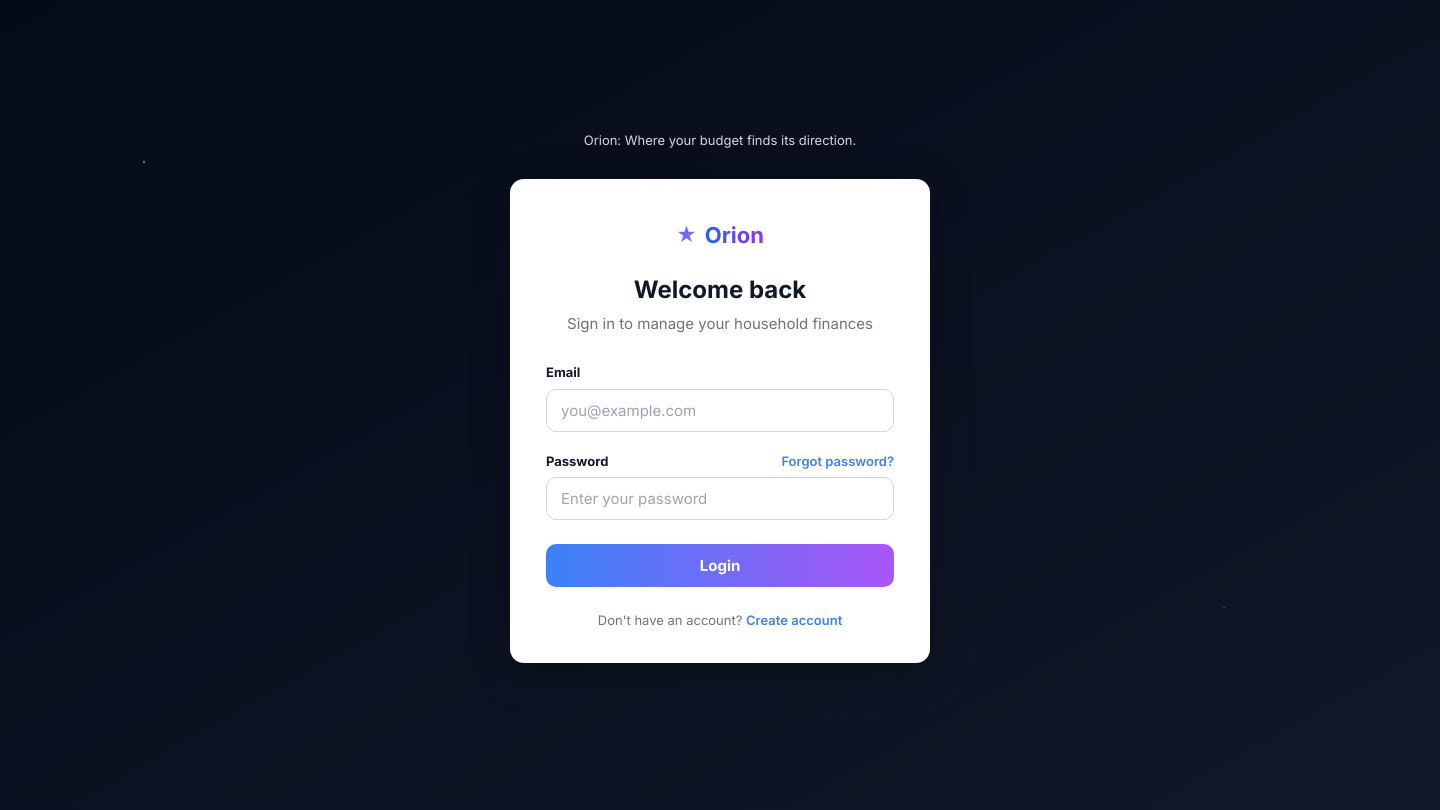
Login page › disables the submit button while the request is in flight
In the field labelled "Email": (720, 410) [546, 389, 894, 432], type "test@example.com"
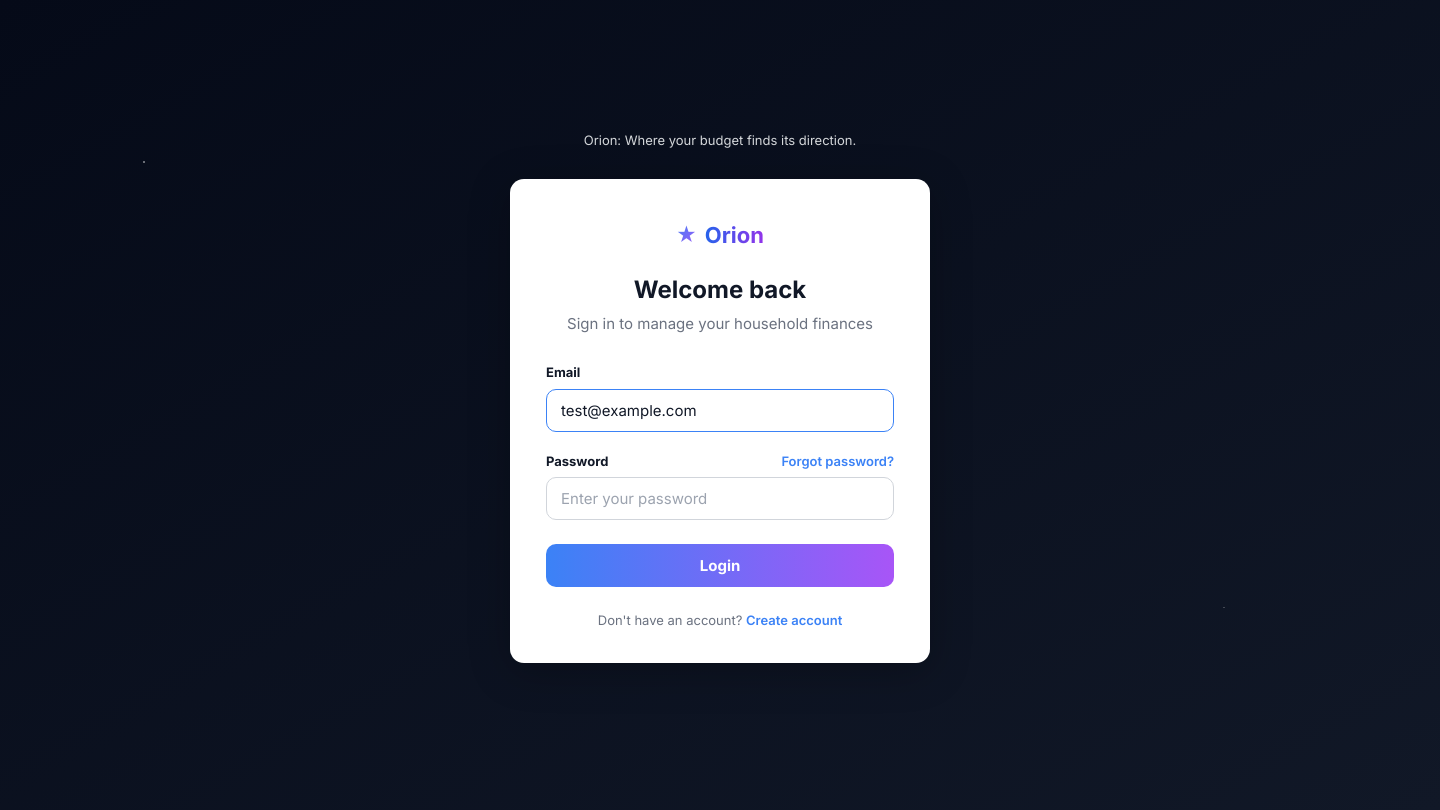
In the password field labelled "Password": (720, 499) [546, 477, 894, 520], type "secret123"
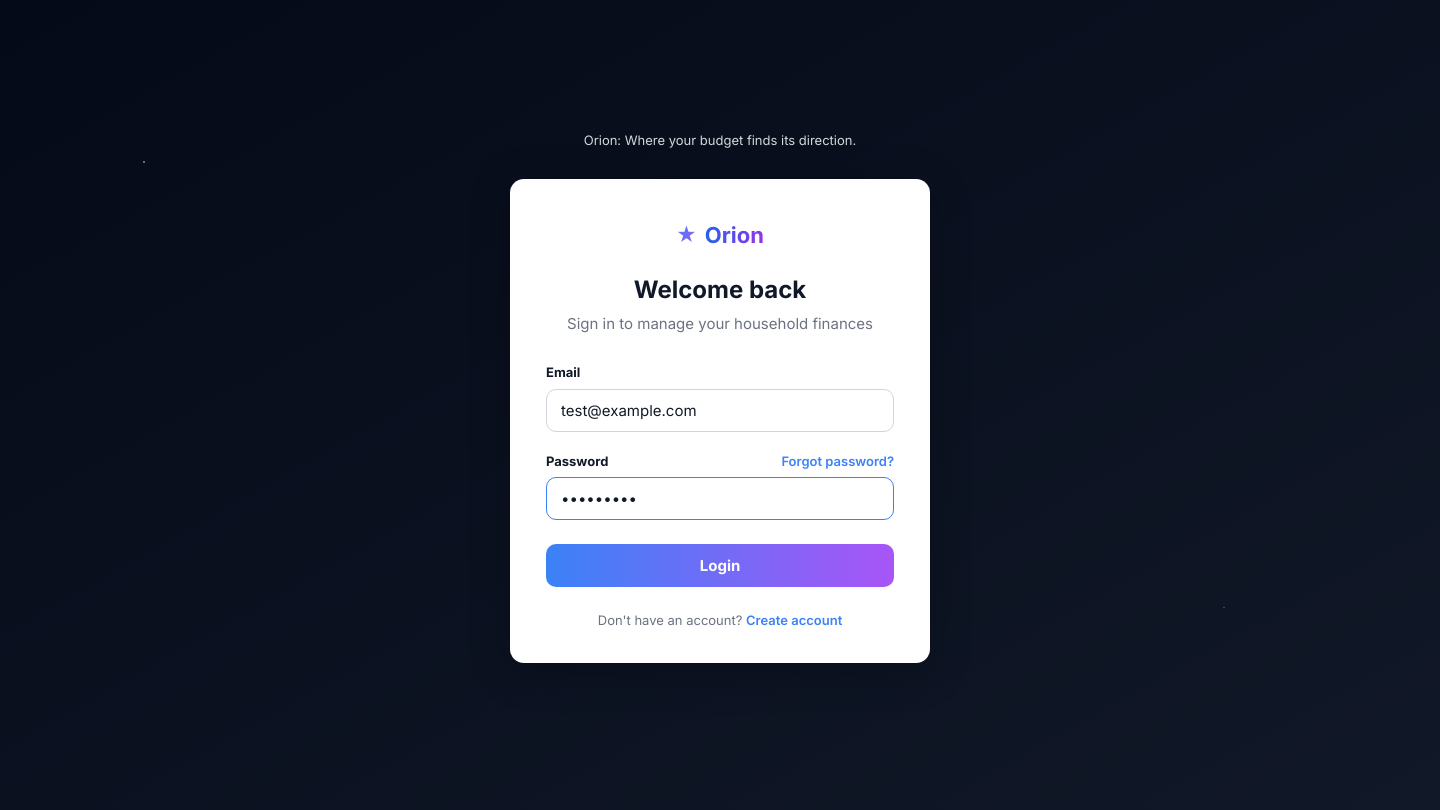
Click the button "Login": (720, 566) [546, 544, 894, 587]
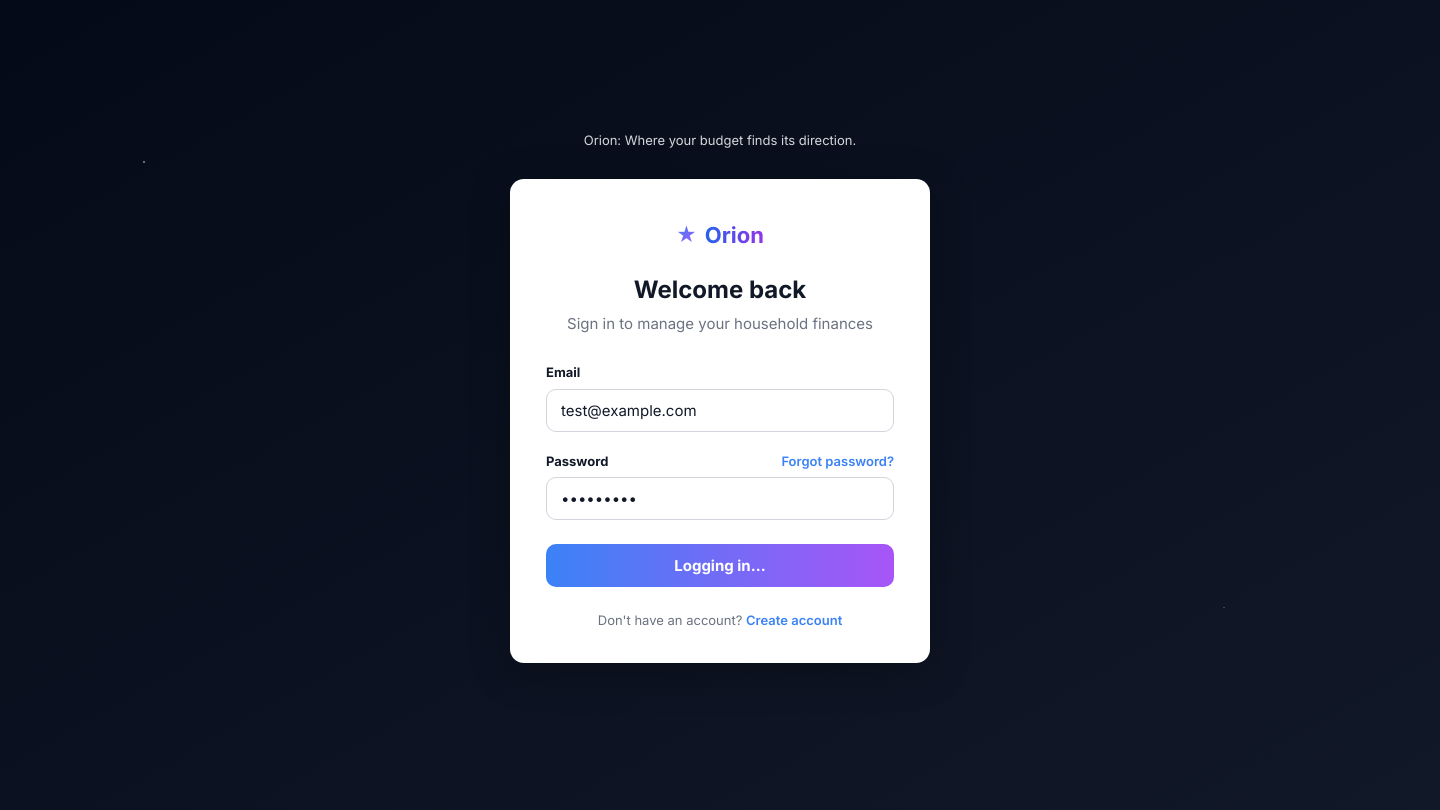
Expected: the button "Logging in..." is disabled, [546, 544, 894, 587]
